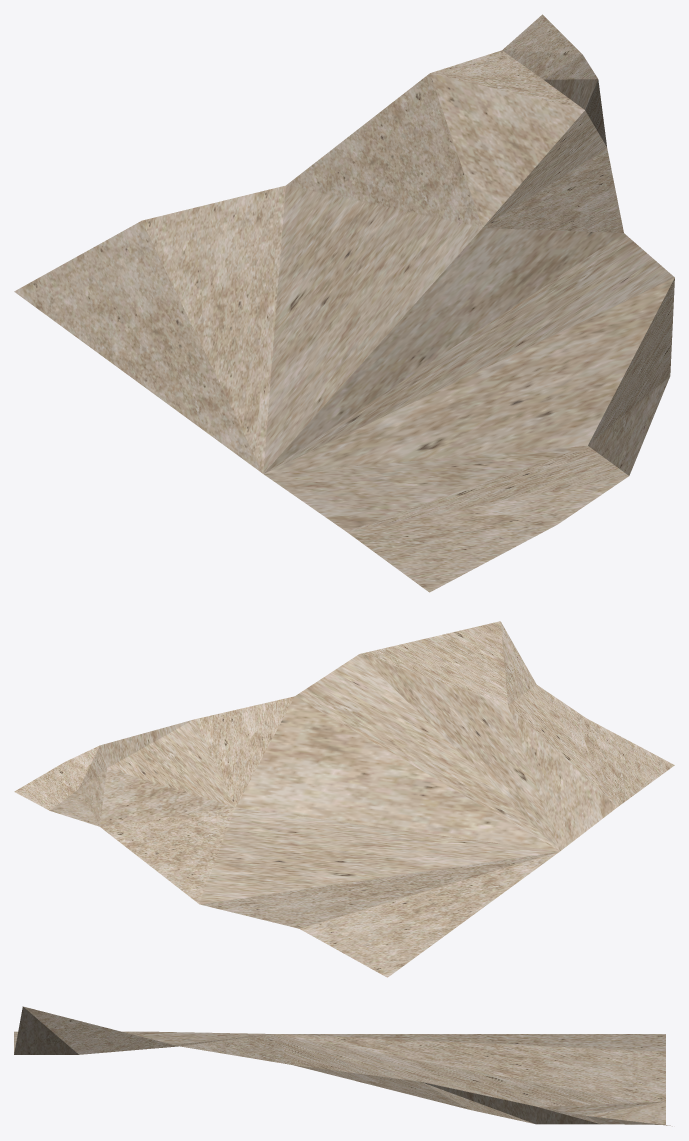
File: lodseabed146.obj
3 renders of one model, top to bottom at view 1: azimuth 30°, elevation 25°; view 2: azimuth 150°, elevation 25°; view 3: azimuth 270°, elevation 25°, orthographic. The views are drawn at different scales.
Visible parts, largest first — view 1: lodseabed146; view 2: lodseabed146; view 3: lodseabed146.
Boxes of the visible parts, bbox=[...] form: lodseabed146: bbox=[14, 14, 674, 592]; lodseabed146: bbox=[14, 621, 674, 977]; lodseabed146: bbox=[14, 1006, 672, 1126].
Bounding box in the file's own units: 183 × 50.95 × 250.
